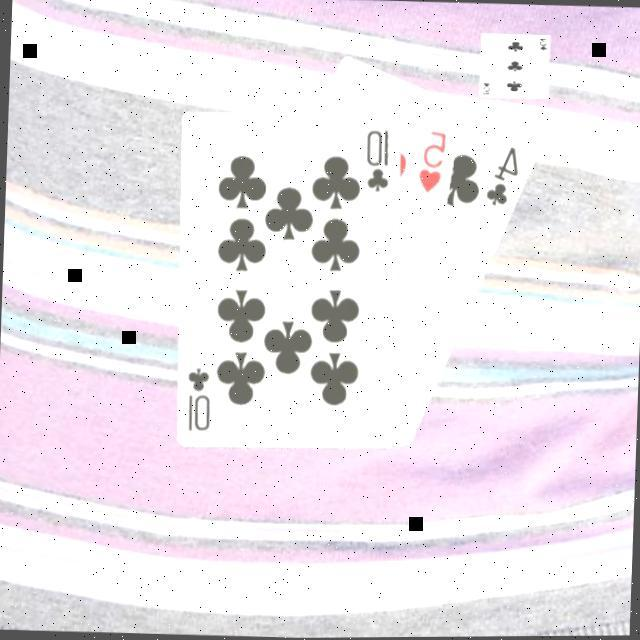10C: (183, 361, 216, 432), (362, 123, 394, 194)
4C: (483, 140, 523, 207)
5H: (416, 125, 452, 194)
